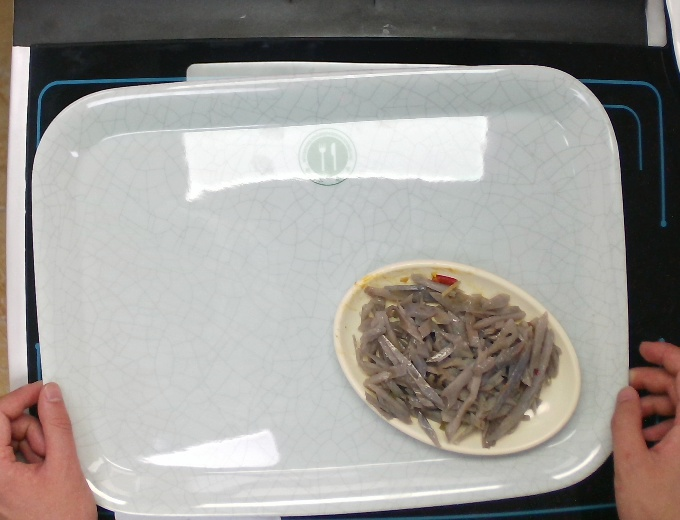JYsf-Tuo_Yuan_Wan: (328, 259, 581, 458)
